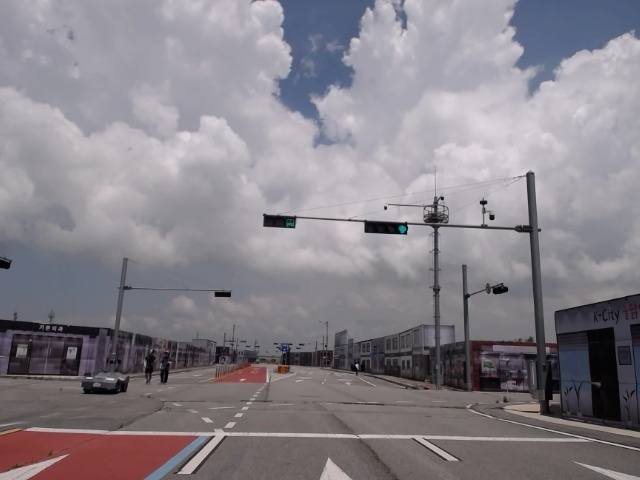straight_green_4: (363, 220, 409, 235)
